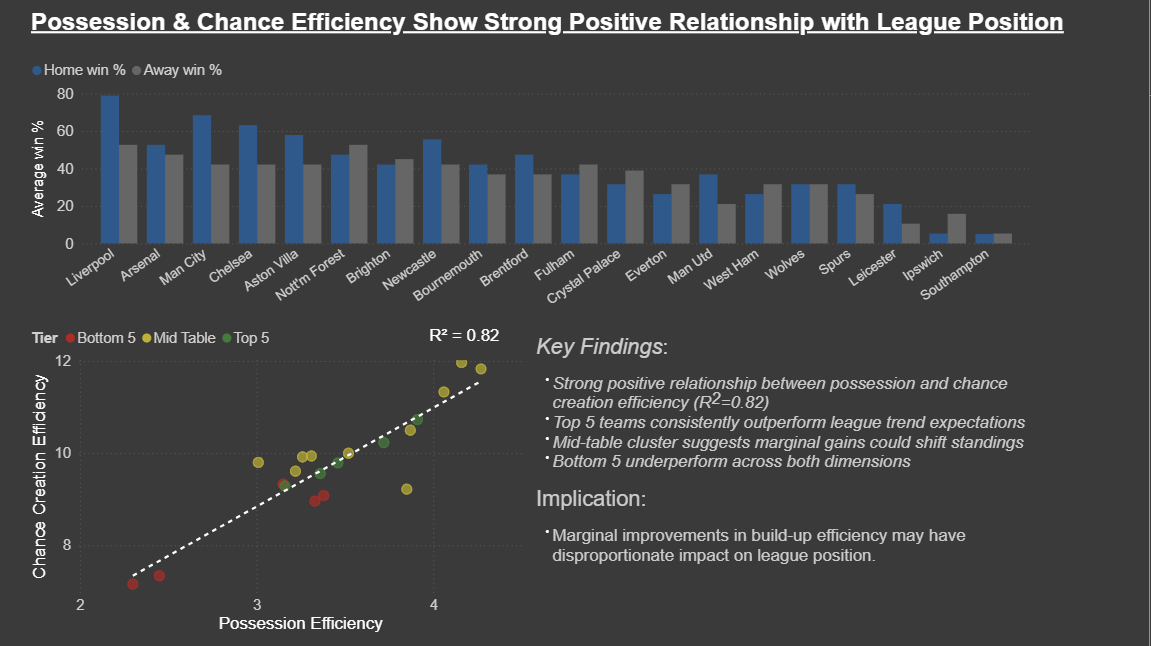

Layout of this report page (visuals, bound fields, positions):
{"tool":"powerbi","page":{"name":"Competitive Insights","canvas":[1280,720],"ordinal":2},"visuals":[{"type":"textbox","box":[46.7,13.7,1233.6,52.1],"z":0},{"type":"clusteredColumnChart","fields":{"Y":["Avg(KPI table.home_win_pct)","Avg(KPI table.away_win_pct)"],"Category":["KPI table.team"]},"box":[46.7,65.9,1108.8,293.7],"z":1000},{"type":"scatterChart","fields":{"X":["KPI table.possession_efficiency"],"Y":["KPI table.chance_creation_efficiency"],"Series":["KPI table.Tier"]},"box":[46.7,359.5,554.4,349.9],"z":2000},{"type":"textbox","box":[601,371.9,554.4,337.6],"z":3000},{"type":"card","fields":{"Values":["KPI table.R2_Display"]},"box":[481.6,359.5,91.9,39.8],"z":4000}]}

Visuals, with their boxes in screenshot pixels (x1, y1, x2, y2), scaled from the page's 1280x720 canvas onto the 1151x646 screenshot:
textbox: <region>42, 12, 1150, 59</region>
clusteredColumnChart - Avg(KPI table.home_win_pct) x Avg(KPI table.away_win_pct): <region>42, 59, 1039, 323</region>
scatterChart - KPI table.possession_efficiency x KPI table.chance_creation_efficiency: <region>42, 323, 541, 636</region>
textbox: <region>540, 334, 1039, 637</region>
card - KPI table.R2_Display: <region>433, 323, 516, 358</region>
